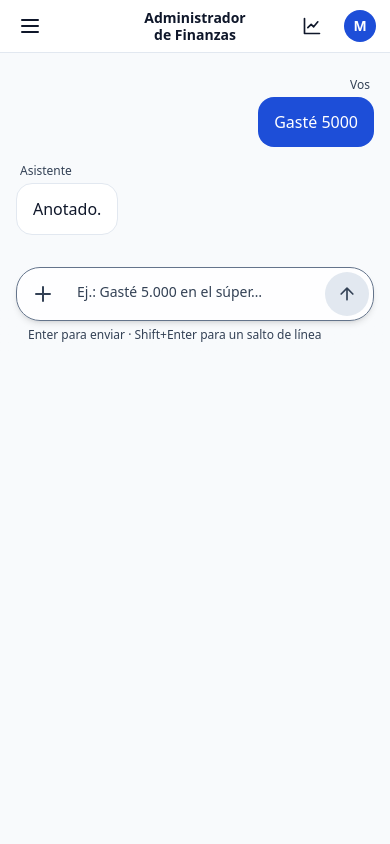
el botón del balance (a la derecha) abre el balance del mes › Escape también lo cierra
The image size is (390, 844).
Click the button named "Balance del mes": {"x": 312, "y": 26} x1=290 y1=4 x2=334 y2=48
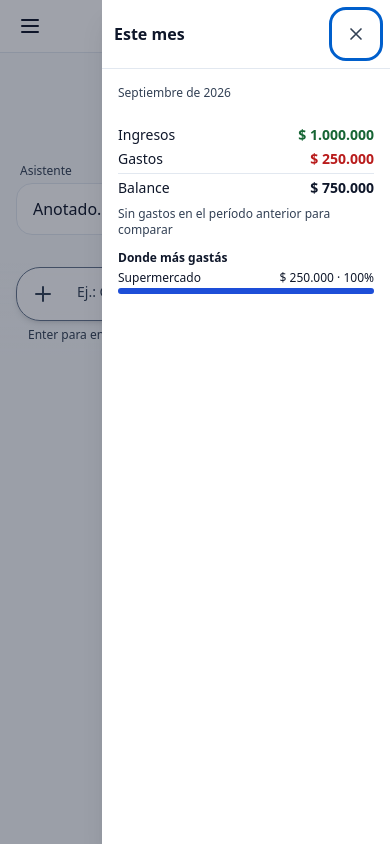
Press Escape
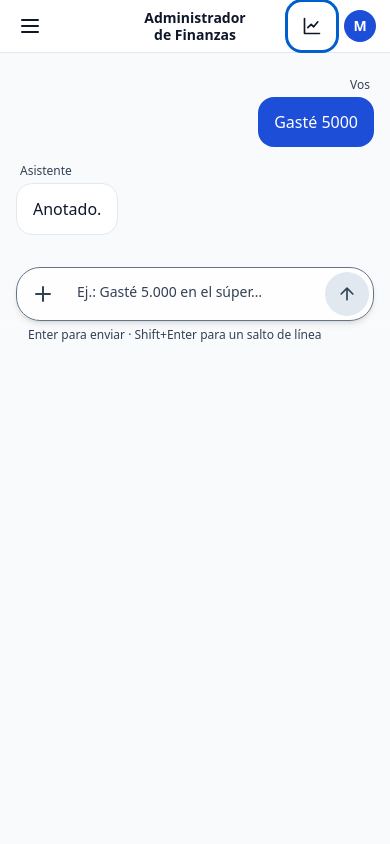
Result: the heading "Este mes" is gone
